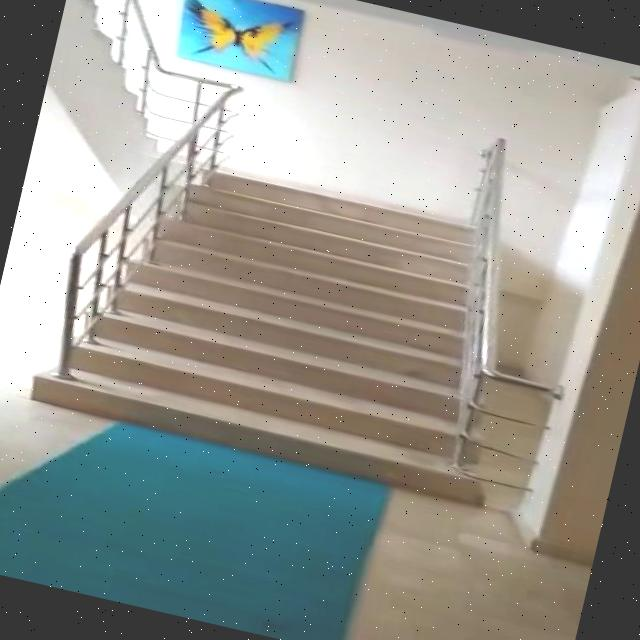stairs: (29, 136, 553, 508)
